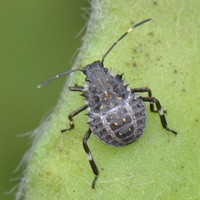insect: (40, 18, 176, 187)
